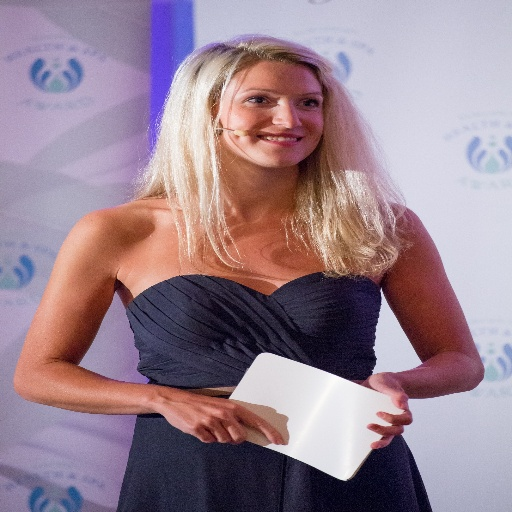hand: (131, 387, 298, 450), (354, 372, 415, 451)
